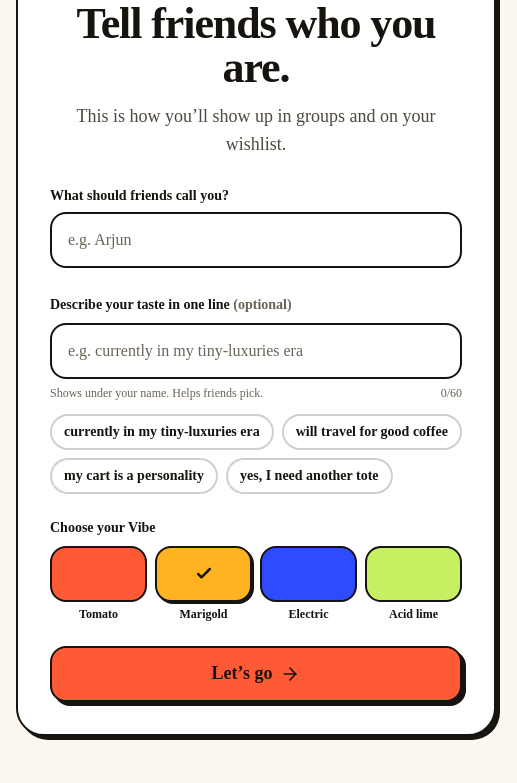
Test: OnboardingForm › shows the designed validation error on submitting an empty name
(page scrolled)
Click the button "Let’s go" at (256, 674), box x1=50 y1=646 x2=462 y2=702
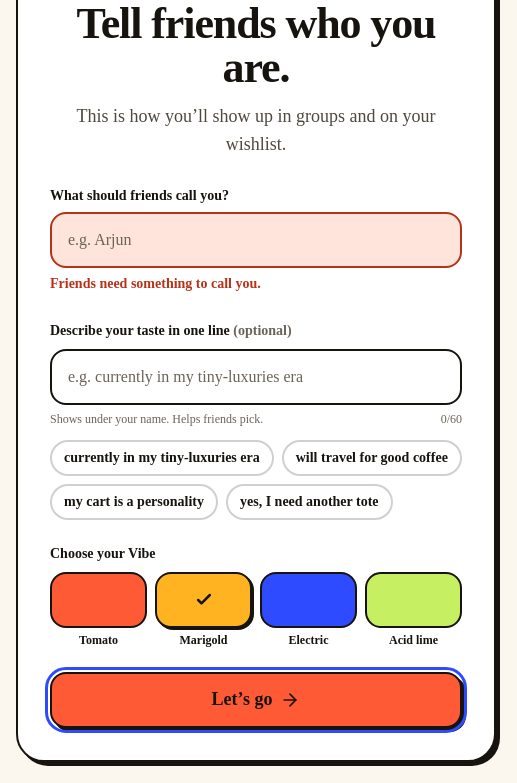
Now the message reads "Friends need something to call you.", box x1=50 y1=276 x2=261 y2=291
